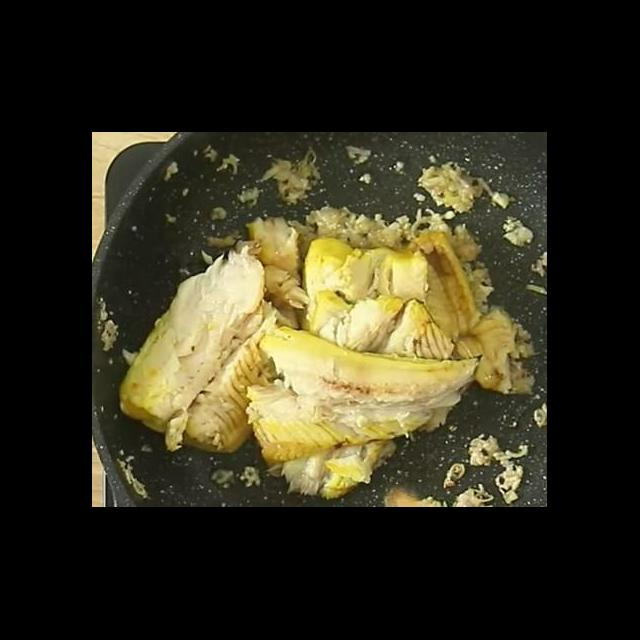ca: (112, 239, 304, 456), (244, 320, 488, 468), (302, 214, 504, 368), (264, 432, 402, 502), (228, 212, 318, 314), (468, 302, 542, 400)
